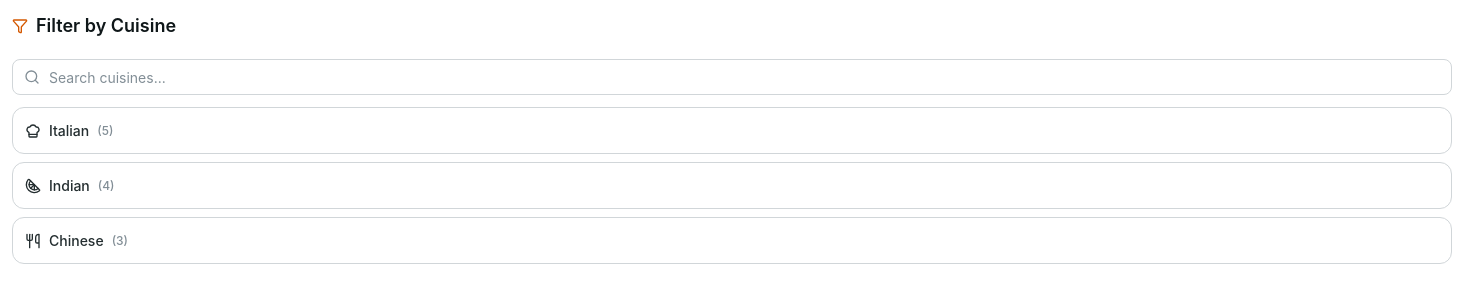
Test: CuisineFilter › filters cuisines based on search input
Type "ind" into the field with placeholder "Search cuisines..." at (732, 77), box [12,59,1452,95]
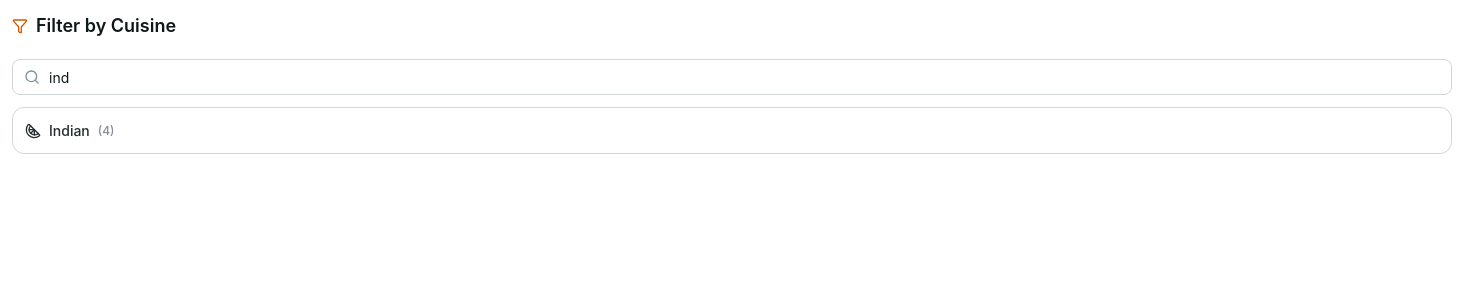
Check: the text "Indian" is shown, box [49,120,90,141]
Check: the checkbox "Italian" is gone
